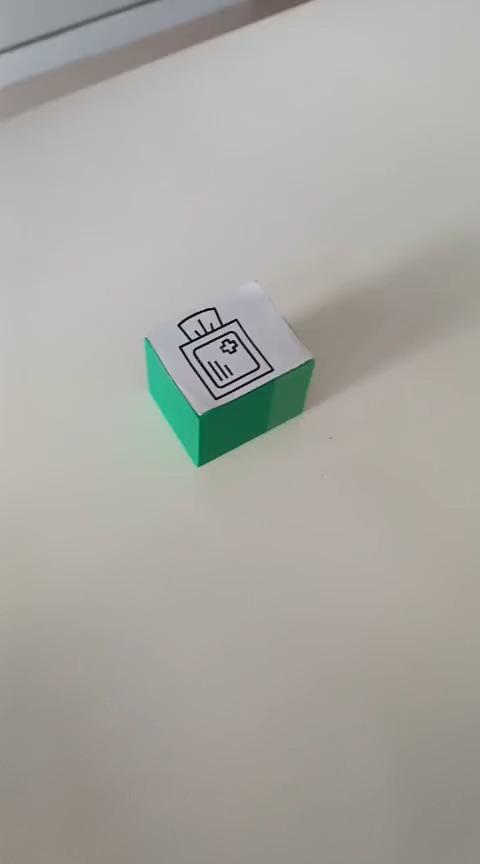Gauze: (142, 278, 315, 467)
